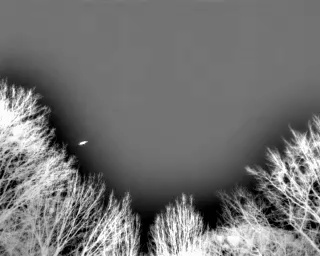BIRD: (77, 138, 90, 148)
